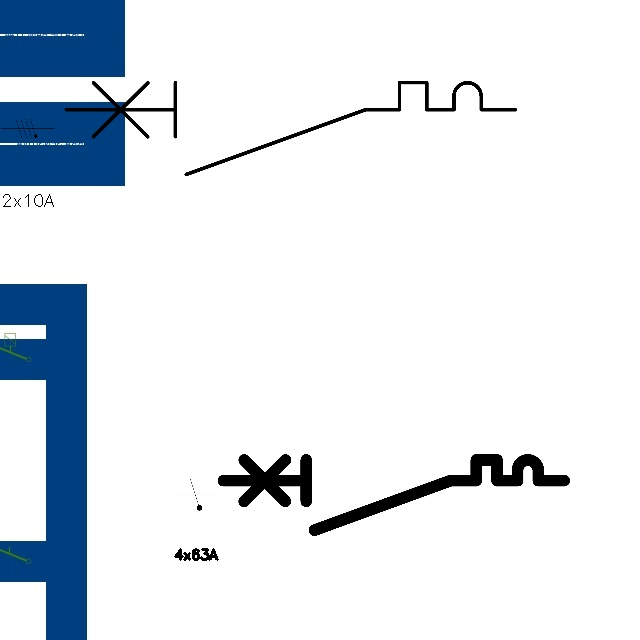interruptor_termomagnetico: (54, 71, 526, 186), (214, 451, 572, 538)
